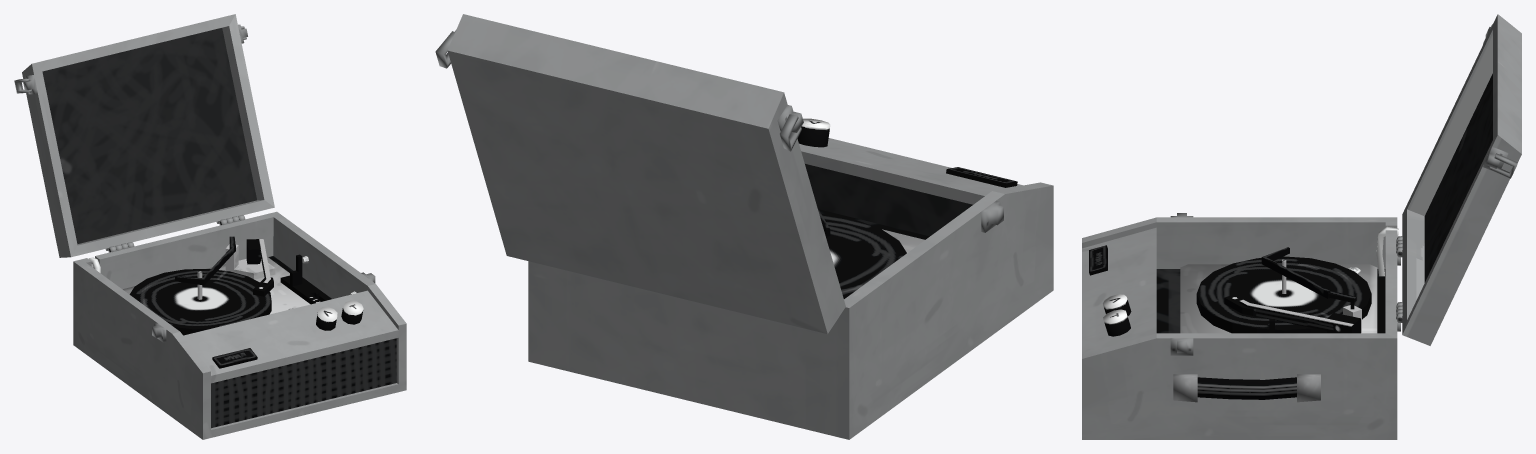
File: obj_RecordPlayer.fbx
The picture shows the model from 3 angles, left to right: view 1: azimuth 30°, elevation 25°; view 2: azimuth 150°, elevation 25°; view 3: azimuth 270°, elevation 25°; orthographic projection. The views are drawn at different scales.
Visible parts, largest first — view 1: Cube, obj_RecordPlayer_Lid, obj_RecordPlayer_Turntable, obj_RecordPlayer_Arm, obj_RecordPlayer_Arm2; view 2: obj_RecordPlayer_Lid, Cube, obj_RecordPlayer_Turntable; view 3: Cube, obj_RecordPlayer_Lid, obj_RecordPlayer_Turntable, obj_RecordPlayer_Arm, obj_RecordPlayer_Arm2.
Boxes of the visible parts, x1,y1,x2,y2 form: Cube: (73,211,406,439); obj_RecordPlayer_Lid: (14,14,274,257); obj_RecordPlayer_Turntable: (129,269,271,335); obj_RecordPlayer_Arm: (246,239,273,296); obj_RecordPlayer_Arm2: (175,236,235,285); obj_RecordPlayer_Lid: (435,14,845,334); Cube: (528,118,1053,439); obj_RecordPlayer_Turntable: (821,214,906,298); Cube: (1082,213,1402,439); obj_RecordPlayer_Lid: (1396,14,1521,345); obj_RecordPlayer_Turntable: (1196,256,1371,333); obj_RecordPlayer_Arm: (1224,293,1360,333); obj_RecordPlayer_Arm2: (1261,247,1356,309).
Size of the model in its own units: 0.3626 by 0.3901 by 0.5097.
Materials: 1 (1 with a texture image).
